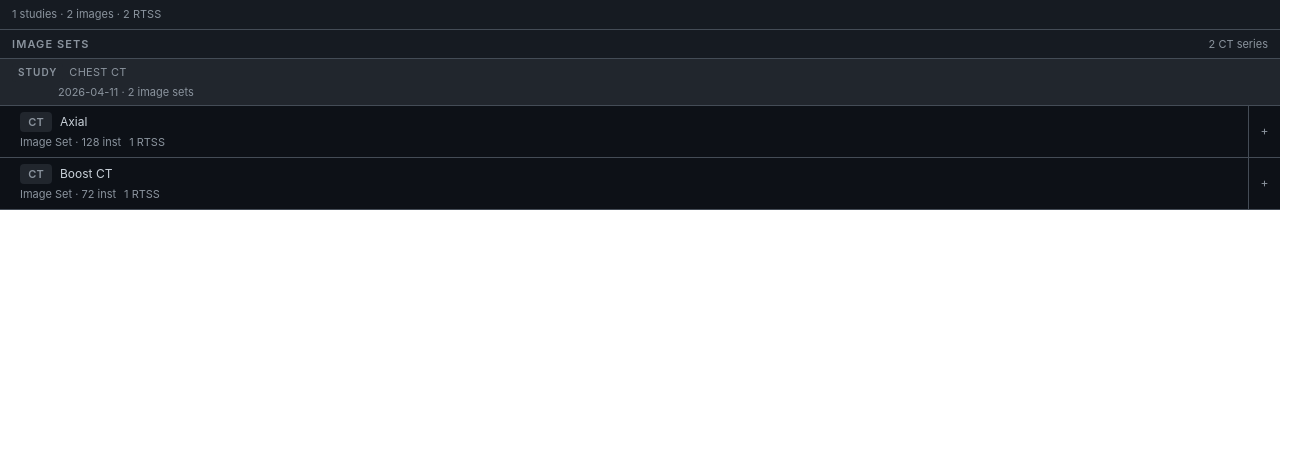
Test: DicomRepoPanel › shows RTSTRUCT rows only under the referenced image set when a study has multiple image sets
Click the button named "Show structure sets for Axial" at (1264, 131), box [1248,106,1280,156]
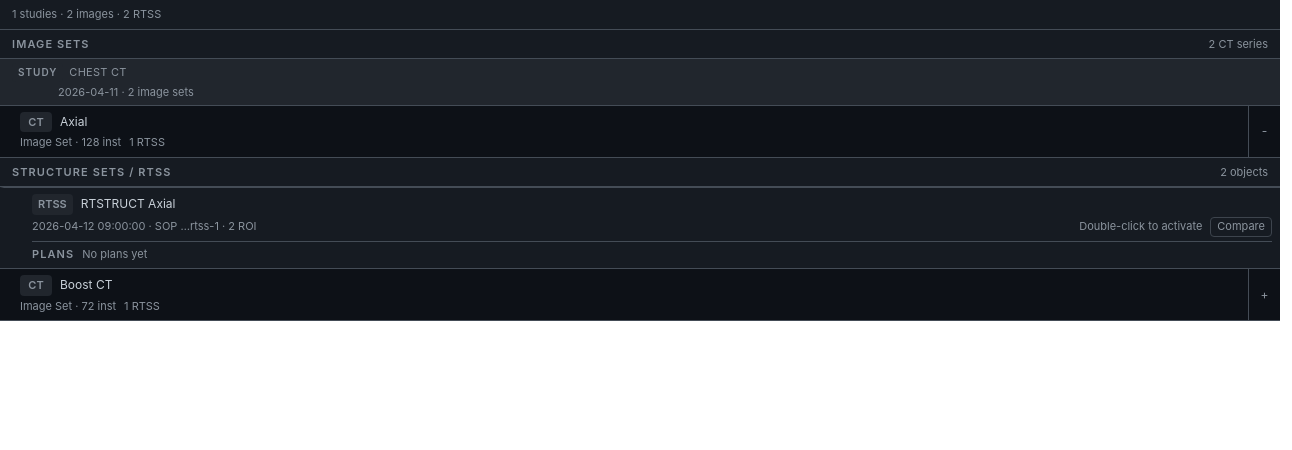
Expected: the text "RTSTRUCT Boost" is not shown
Result: the text "RTSTRUCT Axial" is shown at [81,196,176,211]
Click the button named "Show structure sets for Boost CT" at (1264, 294), box [1248,269,1280,320]
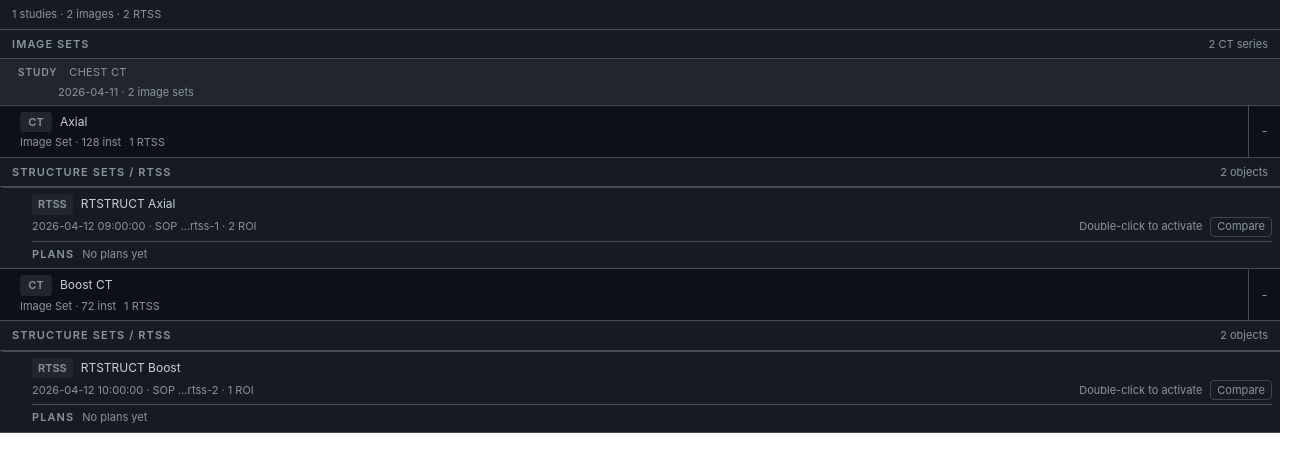
Result: the text "RTSTRUCT Boost" is shown at [81,360,181,375]
